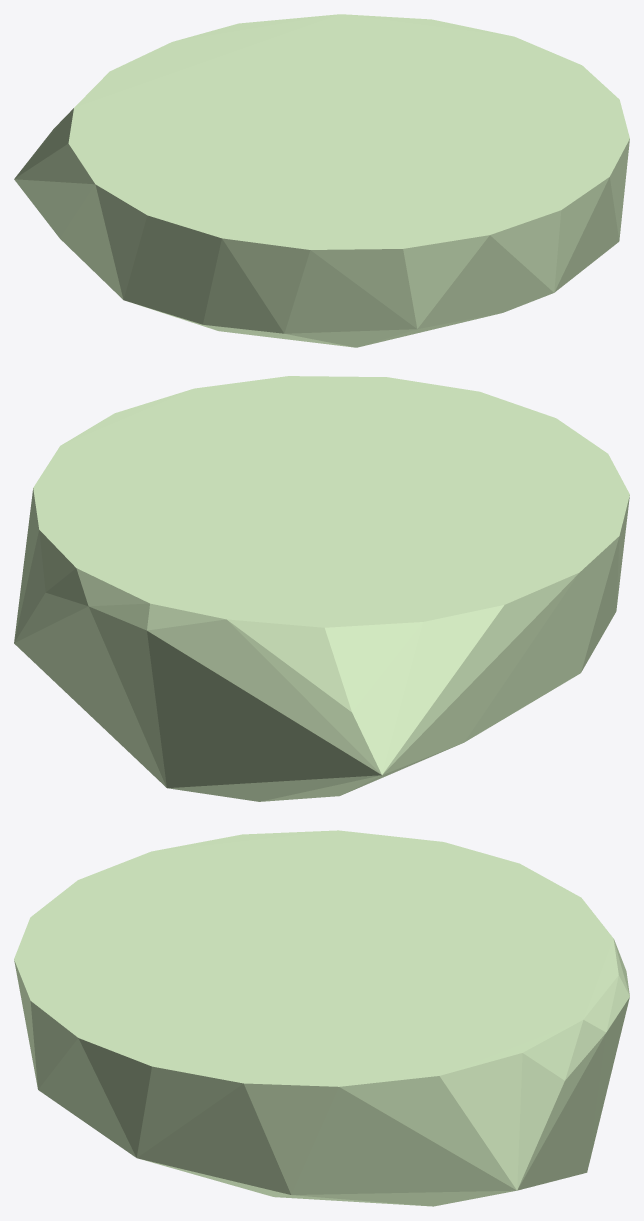
The model's file is kuka_URDF_link6_resp_coll_2.dae.
3 renders of one model, top to bottom at view 1: azimuth 30°, elevation 25°; view 2: azimuth 150°, elevation 25°; view 3: azimuth 270°, elevation 25°, orthographic. The views are drawn at different scales.
Visible parts, largest first — view 1: Node_0000020FCC5901C0; view 2: Node_0000020FCC5901C0; view 3: Node_0000020FCC5901C0.
Part boxes in pixels (box(x1,y1,x2,y2)): Node_0000020FCC5901C0: box(14, 14, 629, 347); Node_0000020FCC5901C0: box(14, 376, 629, 801); Node_0000020FCC5901C0: box(14, 830, 629, 1206).
Size of the model in its own units: 0.103 by 0.0384 by 0.1046.
